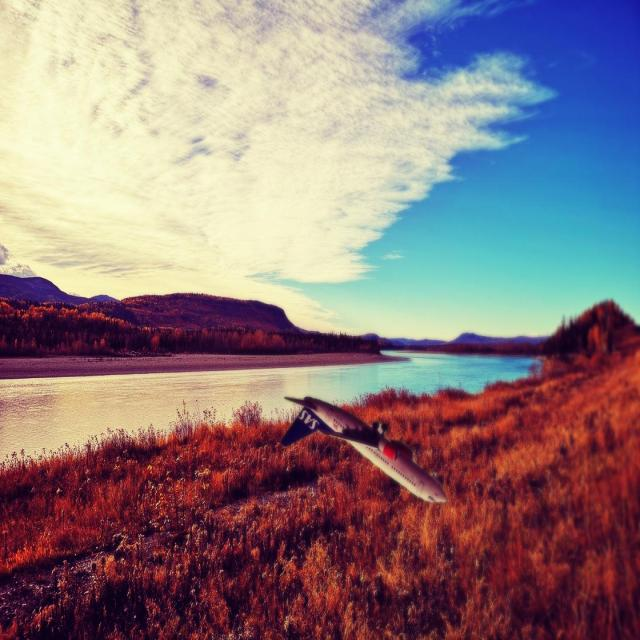airplane: (280, 395, 447, 504)
